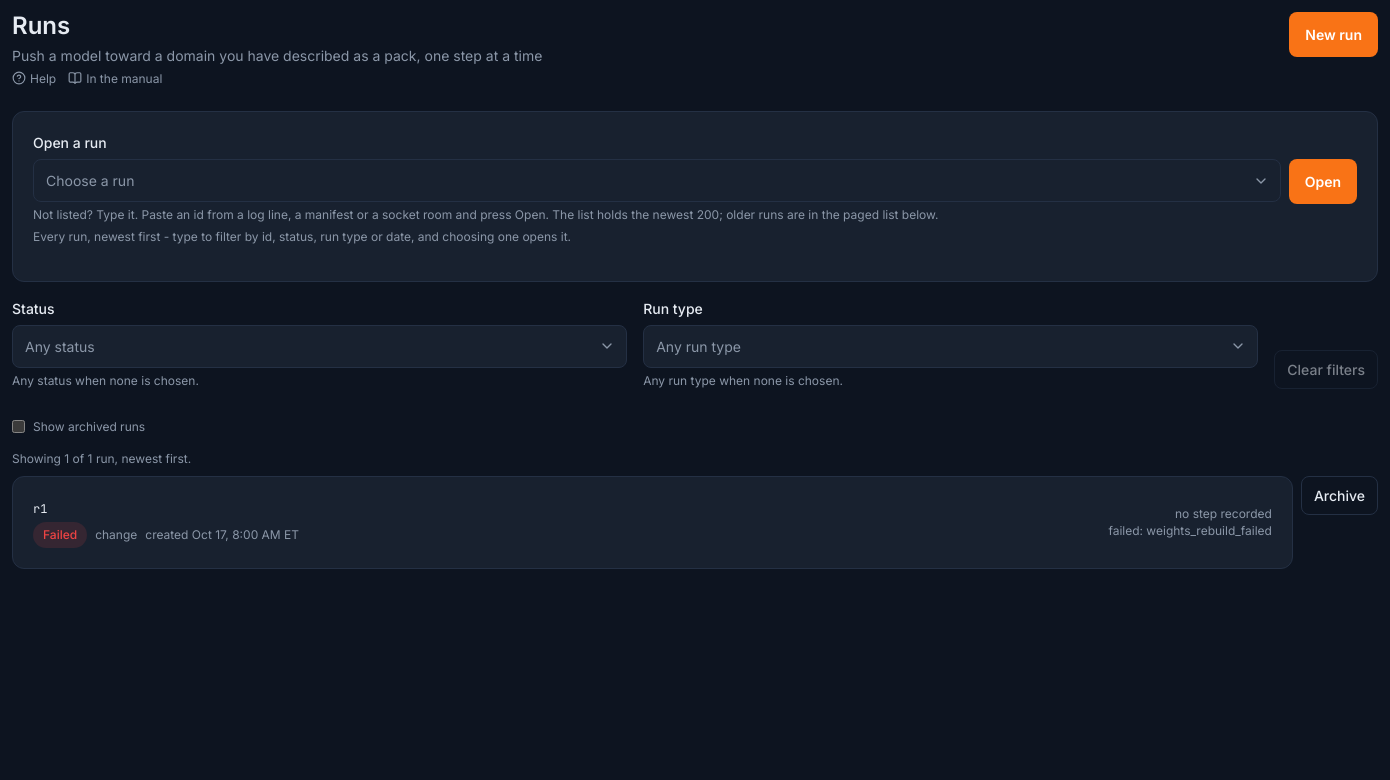
Test: [Runs] archive › should hide archived runs by default and send include_archived to BOTH reads when ticked
Check: the list with test id "run-list-rows" is shown, box x1=12 y1=476 x2=1378 y2=569
Click the checkbox with test id "run-show-archived": x=18, y=427 x1=12 y1=420 x2=25 y2=433
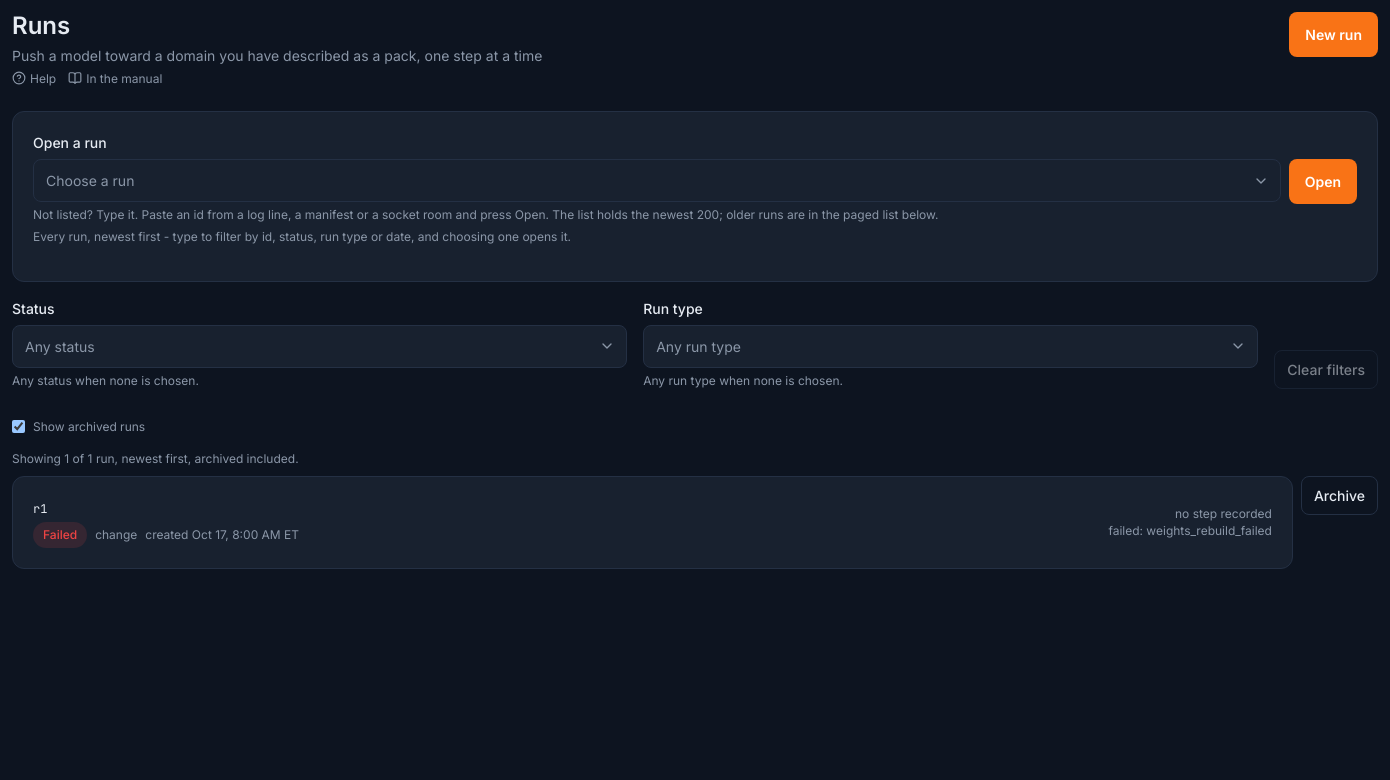
Check: the text with test id "run-list-count" shows "archived included", box x1=188 y1=451 x2=295 y2=466
